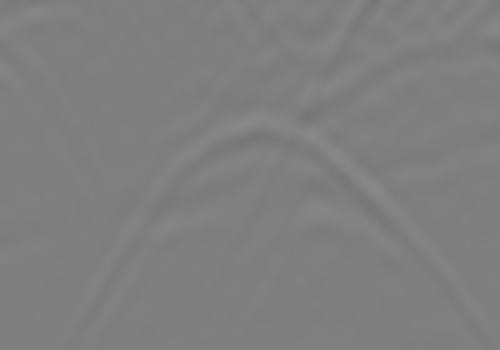hyperbola: (55, 109, 485, 331)
